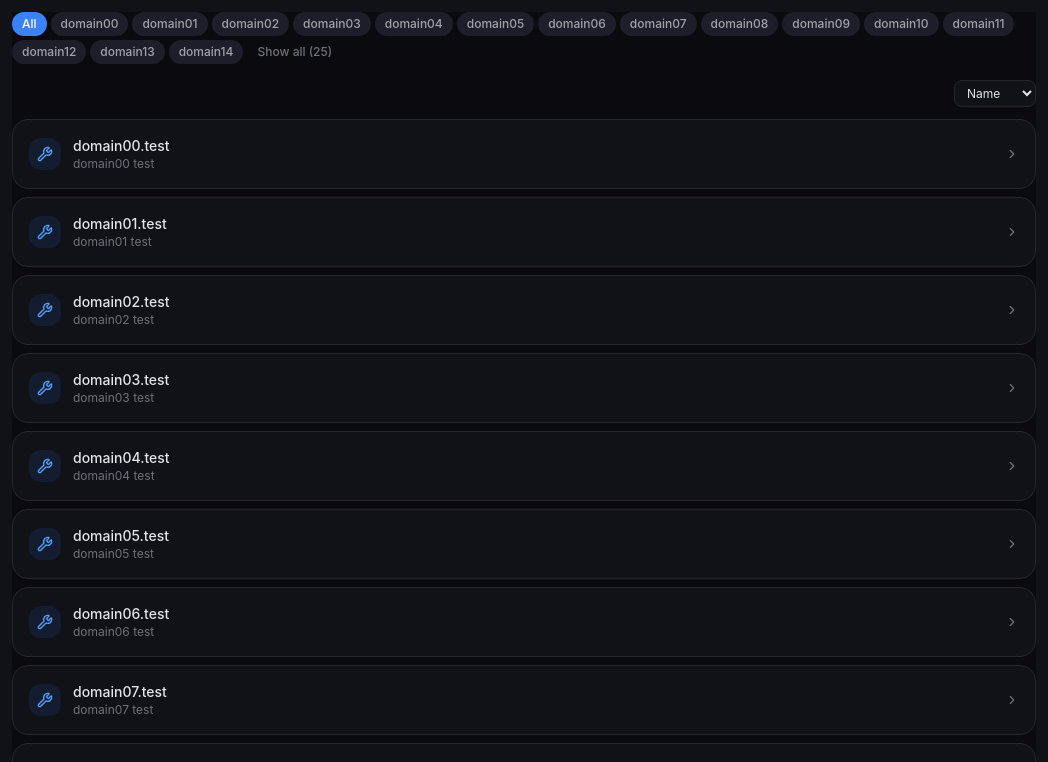
Scenario: ServiceTab › expandable domain filter › reveals all domains when 'Show all' is clicked
The width and height of the screenshot is (1048, 762).
Expected: the button "domain24" is not shown
Click the button "Show all (25)" at [295, 52], box [248,40,342,64]
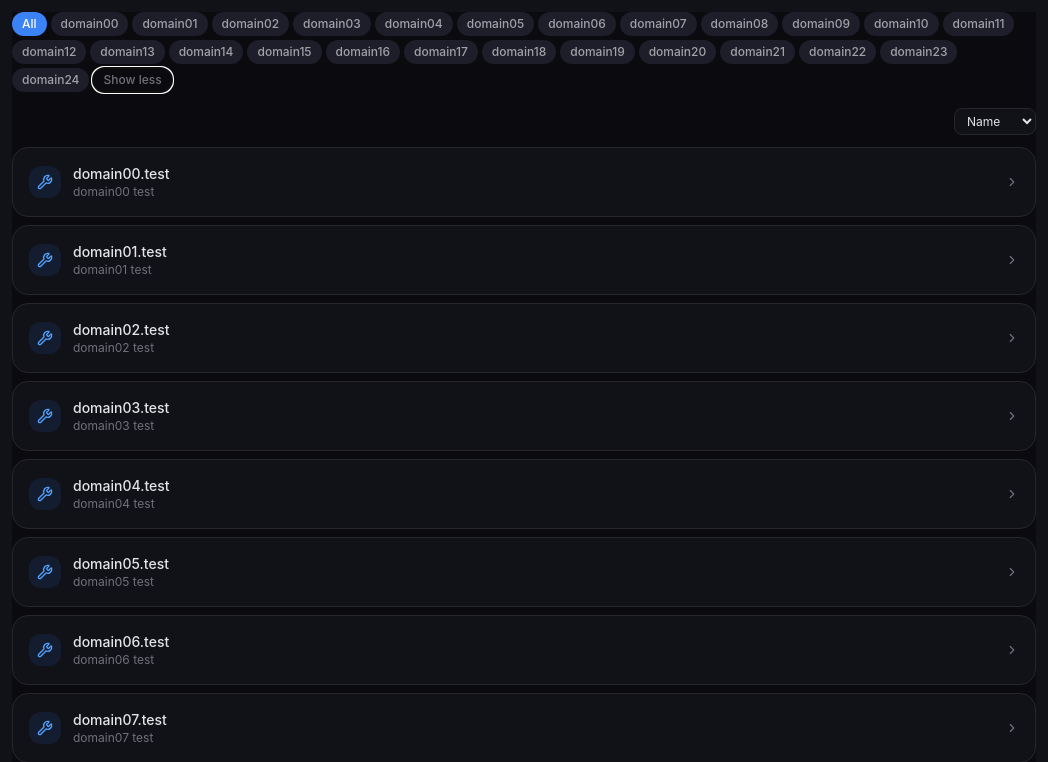
Expected: the button "domain24" is shown, [12,68,90,92]
Expected: the button "Show less" is shown, [94,68,172,92]
